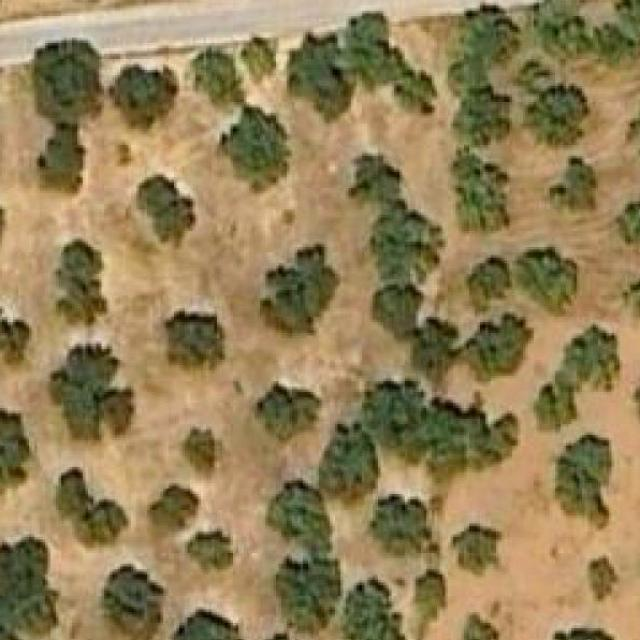Tree: (349, 156, 449, 277), (360, 379, 499, 465), (534, 322, 623, 430), (346, 11, 438, 114), (49, 347, 134, 443), (260, 242, 340, 336), (285, 36, 353, 124), (552, 433, 614, 529), (217, 107, 290, 188), (56, 467, 129, 546), (319, 413, 378, 508), (0, 540, 57, 637), (34, 41, 102, 119), (274, 556, 341, 635), (271, 478, 338, 553), (104, 564, 169, 640), (453, 148, 510, 234), (106, 64, 180, 129), (56, 240, 107, 326), (137, 174, 196, 247), (252, 384, 322, 444), (469, 315, 532, 379), (342, 577, 404, 640), (369, 494, 432, 556), (518, 245, 576, 309), (410, 317, 459, 392), (532, 81, 588, 145), (456, 89, 516, 148), (164, 314, 222, 372), (532, 0, 585, 59), (459, 9, 512, 62), (158, 609, 244, 640), (193, 51, 247, 100), (550, 156, 598, 209), (453, 523, 502, 574), (373, 284, 424, 333), (0, 410, 29, 494), (466, 255, 507, 312), (150, 486, 199, 530), (187, 530, 238, 572), (185, 430, 231, 476), (605, 190, 640, 249), (0, 298, 29, 368), (591, 24, 639, 64), (413, 569, 449, 621), (464, 614, 517, 640), (244, 34, 276, 76), (588, 556, 618, 599), (544, 628, 630, 640), (625, 111, 640, 178), (621, 279, 640, 325), (630, 379, 640, 433), (118, 145, 134, 166)
